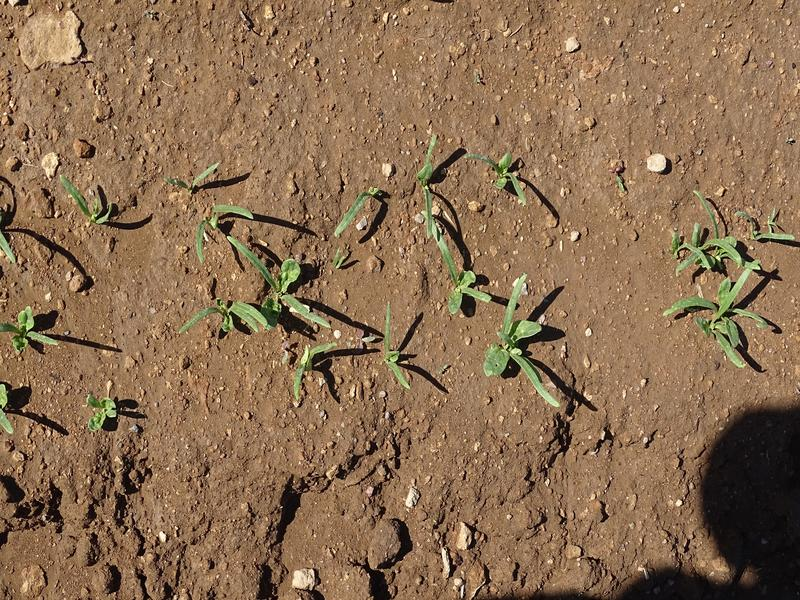Espinaca: (167, 147, 415, 396), (418, 145, 580, 406), (654, 194, 790, 373), (61, 172, 130, 232), (9, 306, 62, 354), (84, 368, 119, 437)
